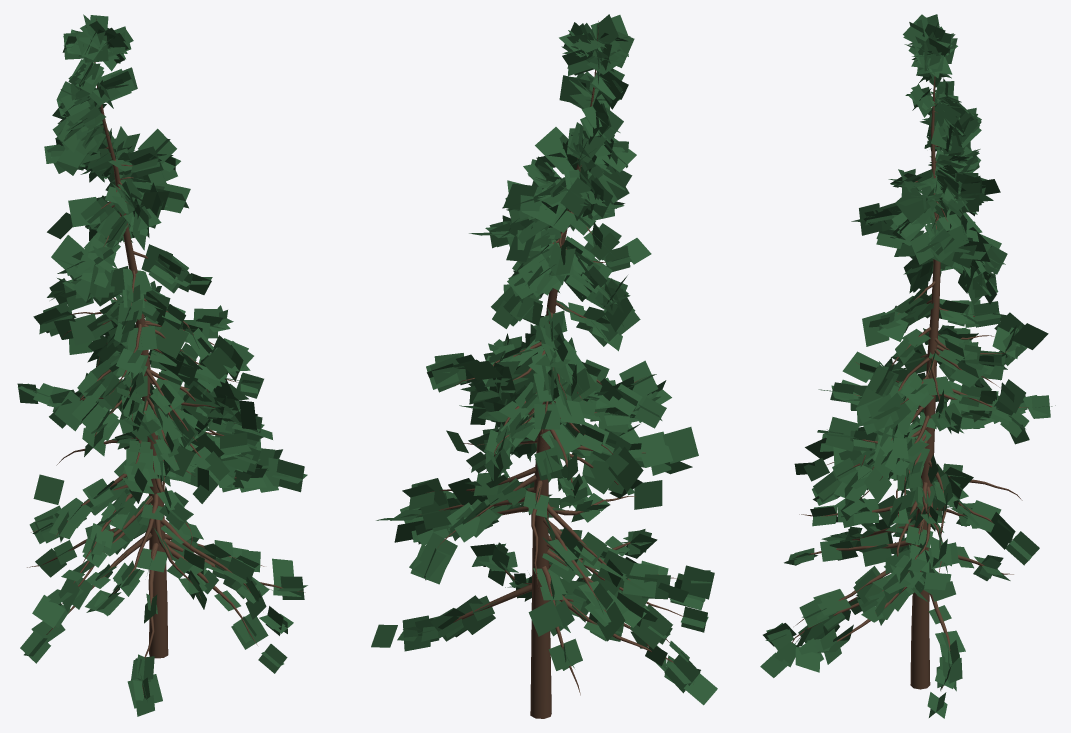
Rendered from meadow-pine-b.lod1.glb.
3 views of the same model, side by side, from view 1: azimuth 30°, elevation 25°; view 2: azimuth 150°, elevation 25°; view 3: azimuth 270°, elevation 25° (orthographic). The views are drawn at different scales.
Parts seen in each view (by area): view 1: leaves, bark; view 2: leaves, bark; view 3: leaves, bark.
Part boxes in pixels (box(x1,y1,x2,y2)): leaves: box(17, 14, 307, 716); bark: box(27, 19, 305, 695); leaves: box(371, 14, 717, 705); bark: box(400, 21, 683, 718); leaves: box(760, 14, 1055, 718); bark: box(792, 76, 1028, 689).
Size of the model in its own units: 18.63 by 39.4 by 16.53.
